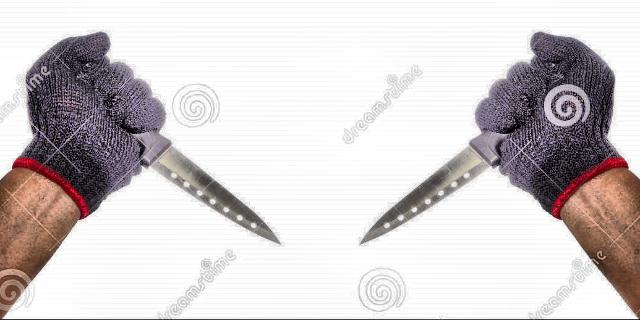knife: (352, 55, 550, 246), (87, 63, 286, 247)
